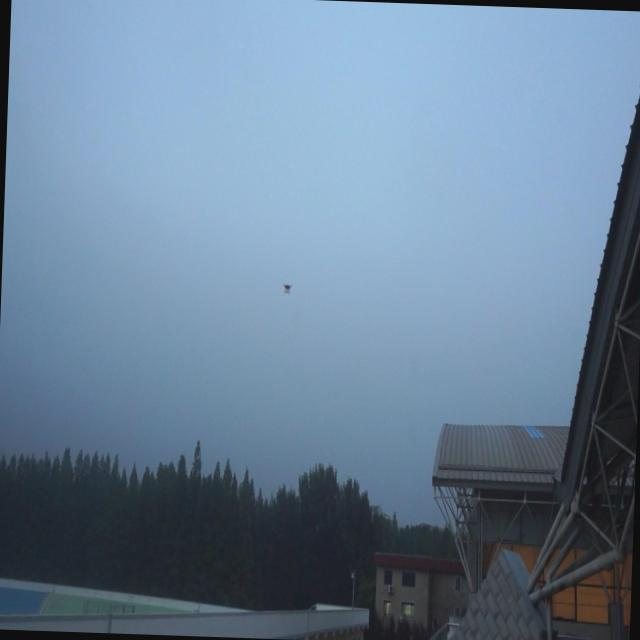drone: (282, 280, 292, 292)
